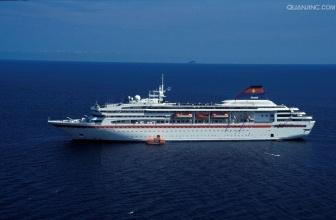youlun: (43, 78, 315, 141)
